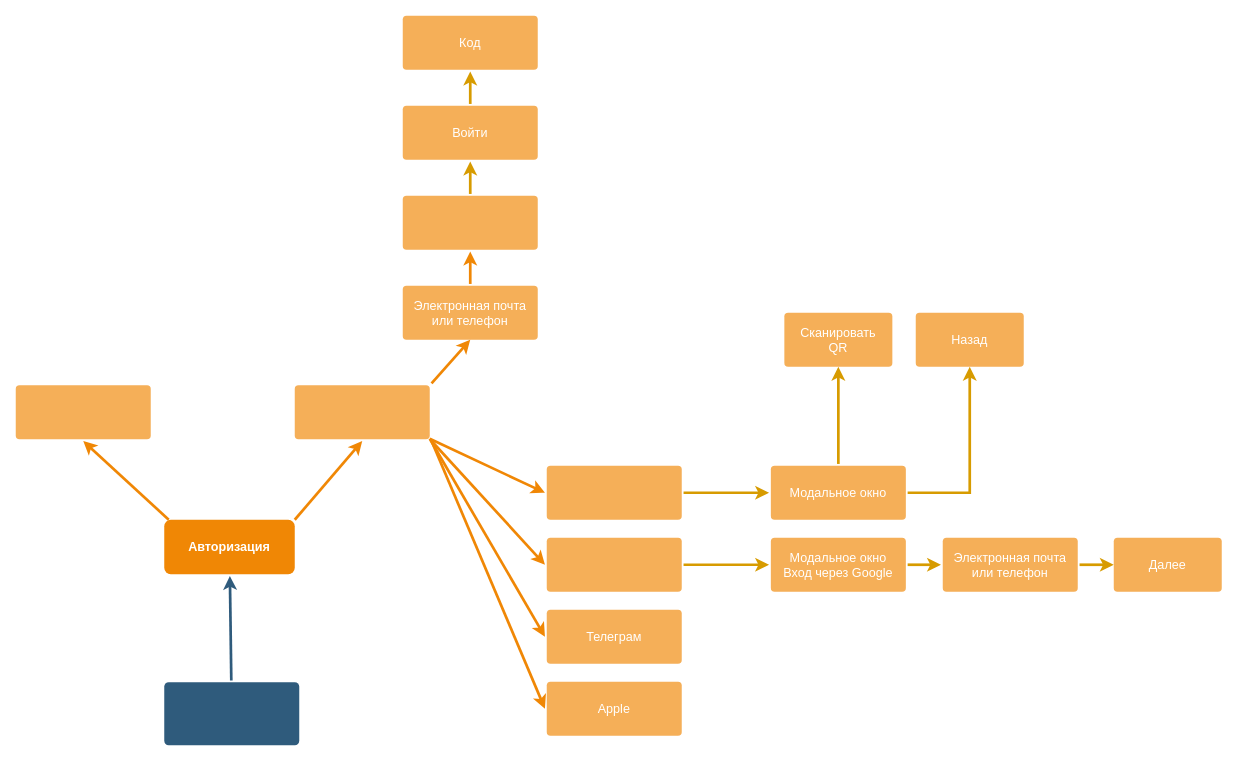
Some shapes in this 1237 by 761 pixel diagram are drawn without their labels. The centre of each missing label's shape, as x and y in pixels:
"Google" goes at (613,564).
"QR код" goes at (613,492).
"Вход" goes at (361,412).
"Главная" goes at (231,713).
"Пароль" goes at (469,222).
"Регистрация" goes at (82,412).
